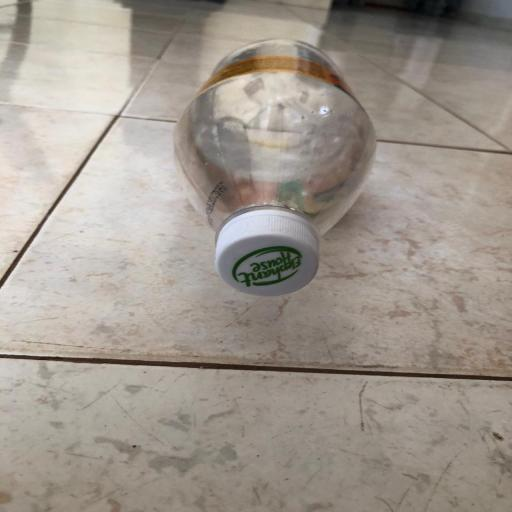waste: (161, 27, 398, 317)
